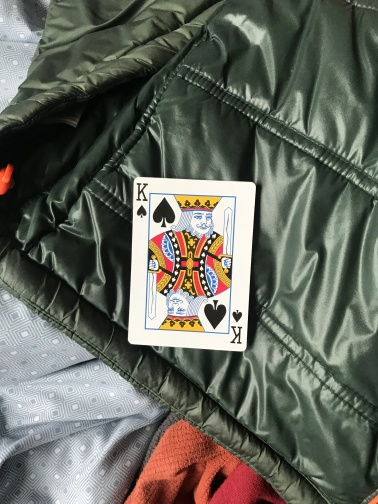king: (127, 176, 257, 352)
